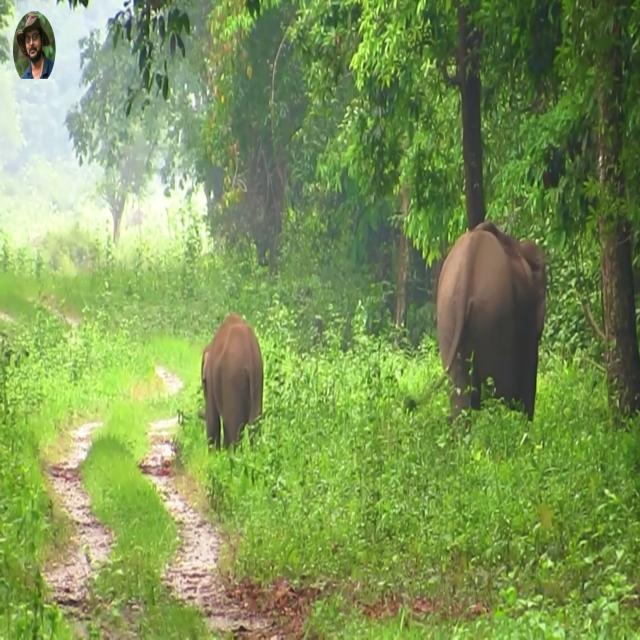Elephant: (435, 219, 547, 427), (200, 312, 264, 453)
